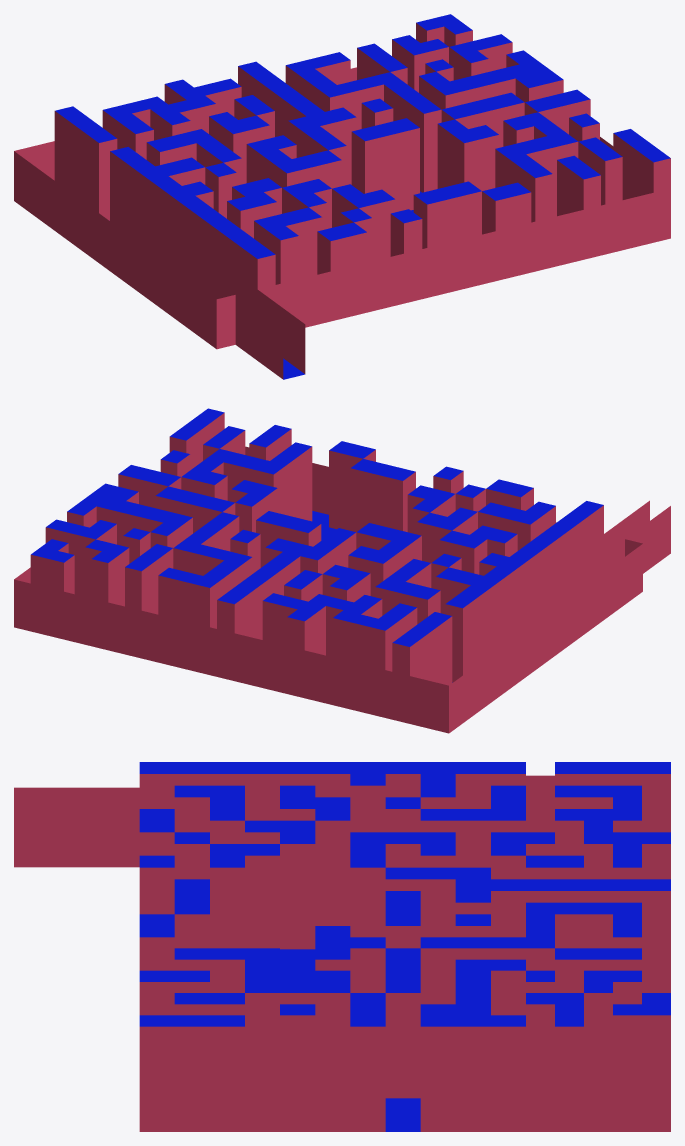
File: TestDungeon.glb
The picture shows the model from 3 angles, top to bottom: view 1: azimuth 30°, elevation 25°; view 2: azimuth 150°, elevation 25°; view 3: azimuth 270°, elevation 25°; orthographic projection. The views are drawn at different scales.
Parts seen in each view (by area): view 1: Plane-.col; view 2: Plane-.col; view 3: Plane-.col.
Boxes of the visible parts, x1,y1,x2,y2 form: Plane-.col: (14,14,670,379); Plane-.col: (14,408,670,733); Plane-.col: (14,762,670,1131).
Size of the model in its own units: 104 by 17.55 by 99.27.
